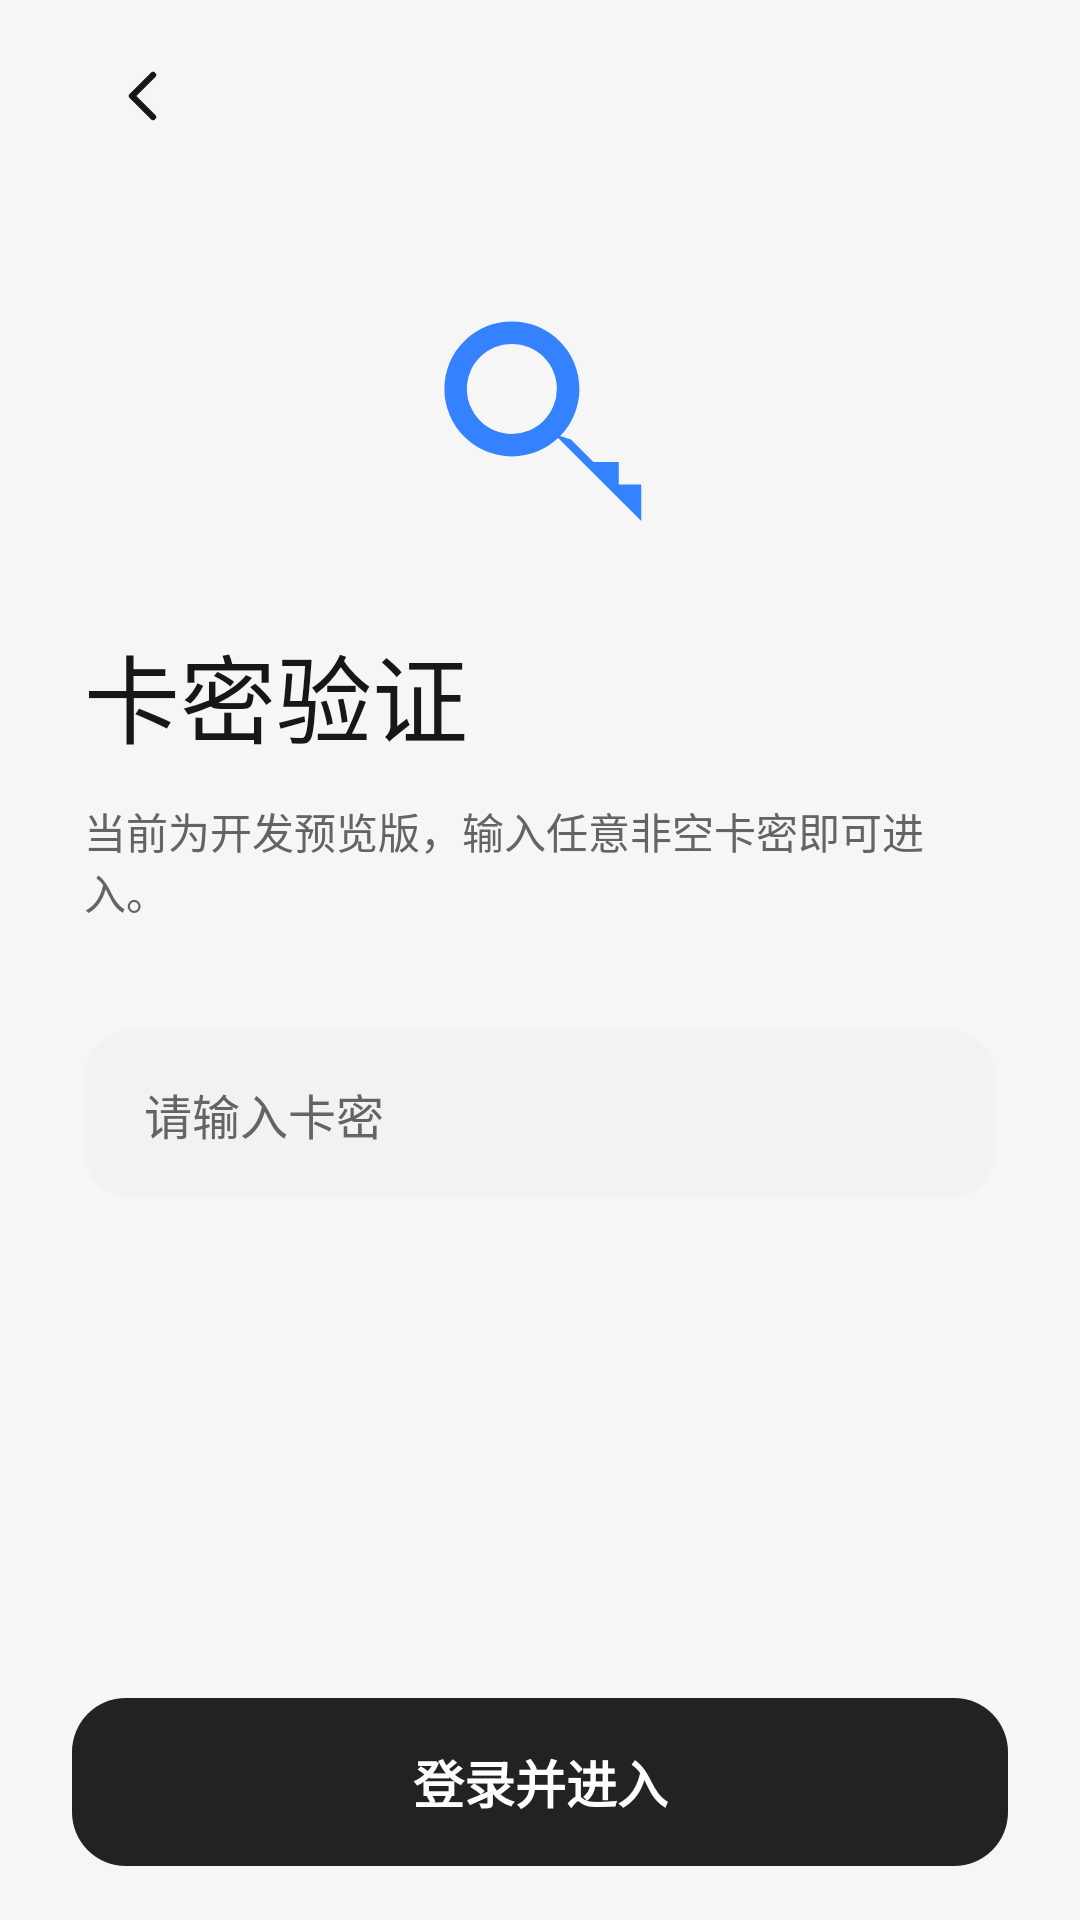

Icons on this 1080x1920 Android screen, each with the point to tap as point (x, y):
返回: point (142, 96)
